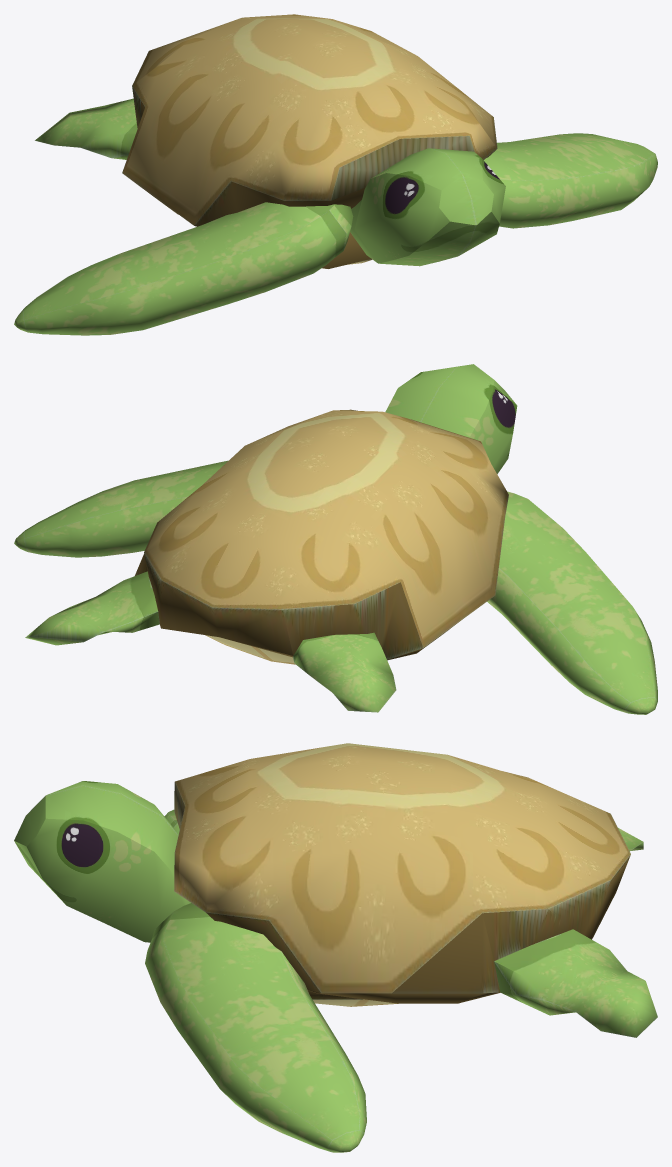
File: torti_-_stylized_turtle.glb
The picture shows the model from 3 angles, top to bottom: view 1: azimuth 30°, elevation 25°; view 2: azimuth 150°, elevation 25°; view 3: azimuth 270°, elevation 25°; orthographic projection. The views are drawn at different scales.
Visible parts, largest first — view 1: Turtle_Turtle_Body_MAT_0, Turtle_Turtle_Arms_MAT_0, Turtle_Turtle_Head_MAT_0; view 2: Turtle_Turtle_Body_MAT_0, Turtle_Turtle_Arms_MAT_0, Turtle_Turtle_Head_MAT_0; view 3: Turtle_Turtle_Body_MAT_0, Turtle_Turtle_Arms_MAT_0, Turtle_Turtle_Head_MAT_0.
Part boxes in pixels (bbox=[...]): Turtle_Turtle_Body_MAT_0: bbox=[35, 14, 497, 268]; Turtle_Turtle_Arms_MAT_0: bbox=[14, 133, 657, 335]; Turtle_Turtle_Head_MAT_0: bbox=[350, 148, 505, 266]; Turtle_Turtle_Body_MAT_0: bbox=[25, 409, 508, 712]; Turtle_Turtle_Arms_MAT_0: bbox=[14, 460, 657, 714]; Turtle_Turtle_Head_MAT_0: bbox=[385, 364, 517, 473]; Turtle_Turtle_Body_MAT_0: bbox=[174, 743, 657, 1037]; Turtle_Turtle_Arms_MAT_0: bbox=[145, 809, 366, 1152]; Turtle_Turtle_Head_MAT_0: bbox=[14, 781, 190, 942].
Size of the model in its own units: 1.1 by 0.348 by 0.8564.
Materials: 3 (3 with a texture image).
